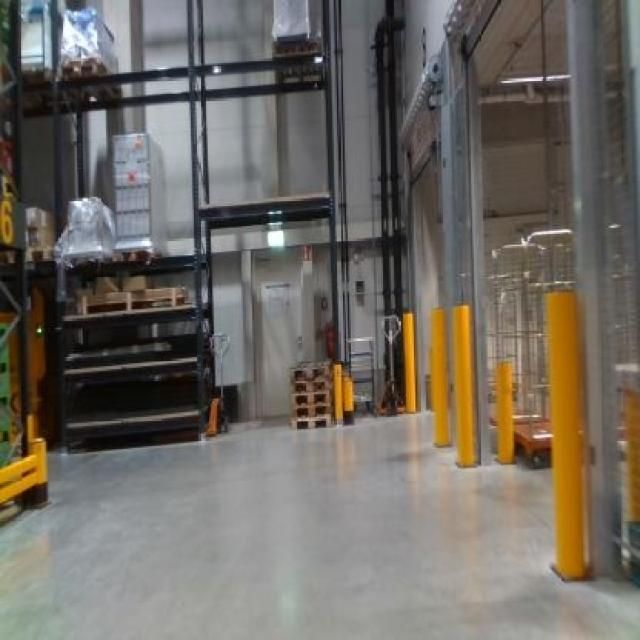floor: (0, 414, 637, 637)
pallets: (60, 274, 195, 443), (617, 386, 637, 582), (289, 360, 329, 426)
